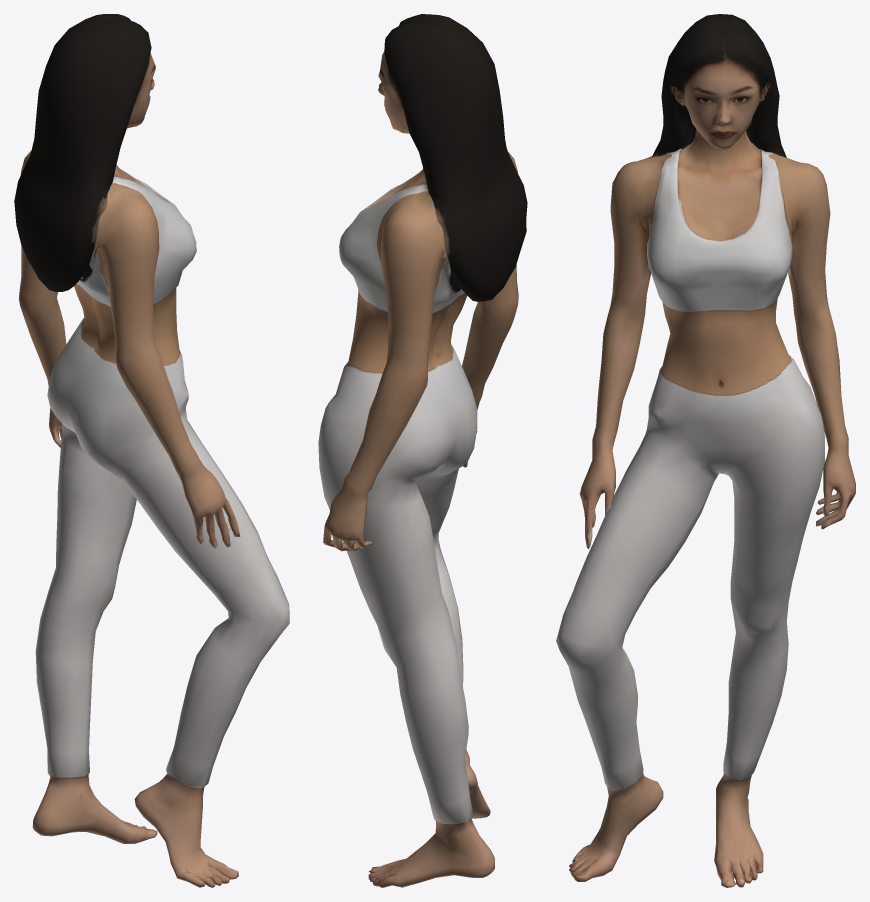
The model's file is asian_woman.glb.
3 views of the same model, side by side, from view 1: azimuth 30°, elevation 25°; view 2: azimuth 150°, elevation 25°; view 3: azimuth 270°, elevation 25° (orthographic). The views are drawn at different scales.
Visible parts, largest first — view 1: tripo_node_ea362898-74e3-4c1e-b83e-d7b324219547; view 2: tripo_node_ea362898-74e3-4c1e-b83e-d7b324219547; view 3: tripo_node_ea362898-74e3-4c1e-b83e-d7b324219547.
Part boxes in pixels (x1,y1,x2,y2): tripo_node_ea362898-74e3-4c1e-b83e-d7b324219547: [14, 14, 289, 887]; tripo_node_ea362898-74e3-4c1e-b83e-d7b324219547: [318, 14, 527, 887]; tripo_node_ea362898-74e3-4c1e-b83e-d7b324219547: [556, 14, 855, 887].
Bounding box in the file's own units: 0.2285 × 0.998 × 0.3223.
1 material, 1 textured.
